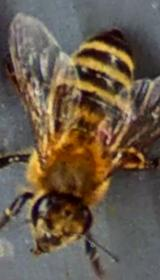varroa_mite: (91, 119, 113, 144)
